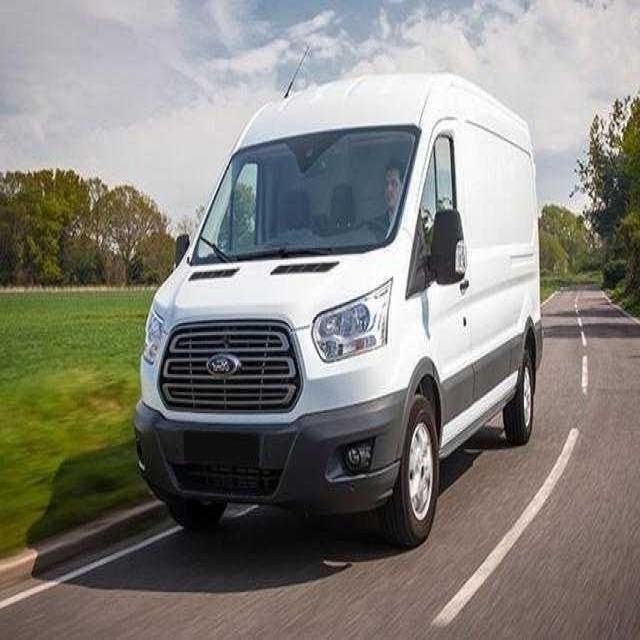Van: (138, 76, 540, 548)
